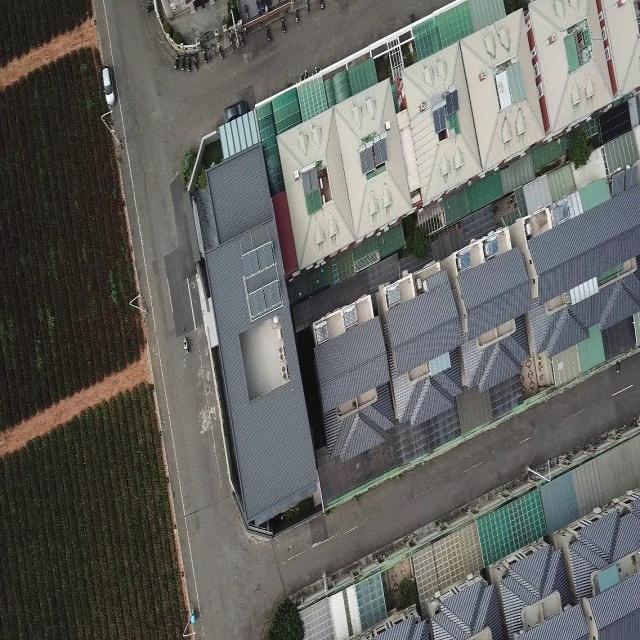bike: (264, 23, 272, 44), (279, 18, 288, 36), (217, 44, 225, 62), (293, 6, 300, 26), (186, 54, 193, 74), (193, 54, 200, 72), (183, 335, 190, 352), (202, 47, 208, 66), (303, 2, 311, 16), (180, 54, 185, 74), (174, 54, 179, 72), (318, 1, 326, 10)
car: (102, 65, 115, 104)
